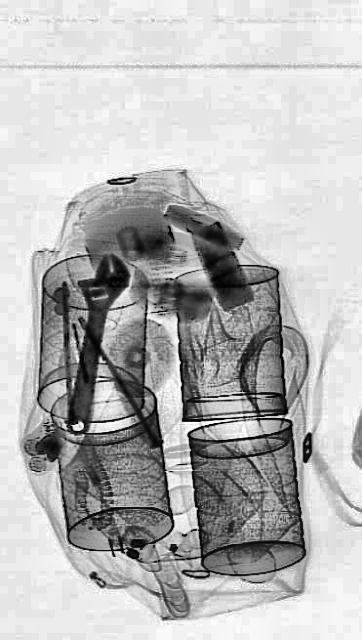Wrench: (48, 238, 132, 444)
